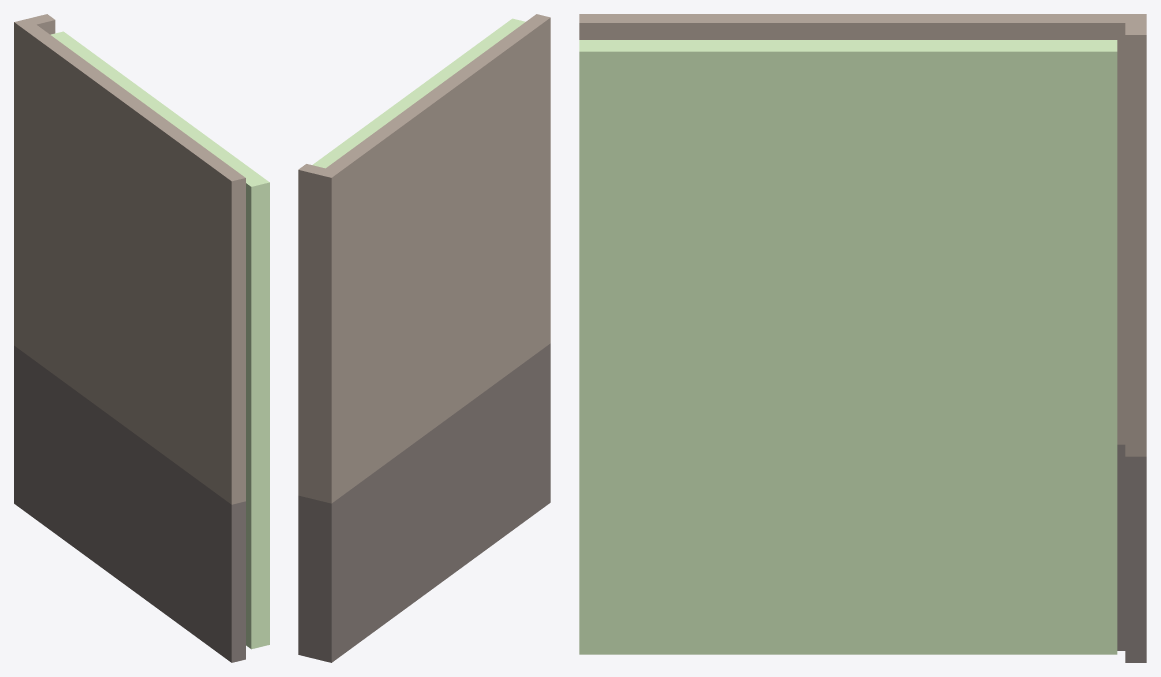
The picture shows the model from 3 angles, left to right: view 1: azimuth 30°, elevation 25°; view 2: azimuth 150°, elevation 25°; view 3: azimuth 270°, elevation 25°; orthographic projection. The views are drawn at different scales.
Parts seen in each view (by area): view 1: [8734859]21_Metselwerk Sonsbeek 100 mm, Aberson 48N13, [8734874]21_Metselwerk Hadsund 100mm, Aberson 48N45, [8734844]21_isolatie 131mm, [8734860]21_Metselwerk Sonsbeek 100 mm, Aberson 48N13, [8734875]21_Metselwerk Hadsund 100mm, Aberson 48N45; view 2: [8734859]21_Metselwerk Sonsbeek 100 mm, Aberson 48N13, [8734874]21_Metselwerk Hadsund 100mm, Aberson 48N45, [8734860]21_Metselwerk Sonsbeek 100 mm, Aberson 48N13, [8734875]21_Metselwerk Hadsund 100mm, Aberson 48N45, [8734844]21_isolatie 131mm; view 3: [8734844]21_isolatie 131mm, [8734859]21_Metselwerk Sonsbeek 100 mm, Aberson 48N13, [8734860]21_Metselwerk Sonsbeek 100 mm, Aberson 48N13, [8734875]21_Metselwerk Hadsund 100mm, Aberson 48N45, [8734874]21_Metselwerk Hadsund 100mm, Aberson 48N45.
Boxes of the visible parts, x1,y1,x2,y2 form: [8734859]21_Metselwerk Sonsbeek 100 mm, Aberson 48N13: [22, 24, 245, 504]; [8734874]21_Metselwerk Hadsund 100mm, Aberson 48N45: [22, 352, 245, 662]; [8734844]21_isolatie 131mm: [50, 31, 269, 649]; [8734860]21_Metselwerk Sonsbeek 100 mm, Aberson 48N13: [14, 14, 55, 350]; [8734875]21_Metselwerk Hadsund 100mm, Aberson 48N45: [14, 345, 22, 509]; [8734859]21_Metselwerk Sonsbeek 100 mm, Aberson 48N13: [326, 14, 550, 497]; [8734874]21_Metselwerk Hadsund 100mm, Aberson 48N45: [339, 343, 550, 656]; [8734860]21_Metselwerk Sonsbeek 100 mm, Aberson 48N13: [298, 164, 339, 503]; [8734875]21_Metselwerk Hadsund 100mm, Aberson 48N45: [298, 495, 339, 662]; [8734844]21_isolatie 131mm: [312, 18, 525, 168]; [8734844]21_isolatie 131mm: [579, 40, 1117, 654]; [8734859]21_Metselwerk Sonsbeek 100 mm, Aberson 48N13: [579, 14, 1125, 444]; [8734860]21_Metselwerk Sonsbeek 100 mm, Aberson 48N13: [1125, 14, 1146, 456]; [8734875]21_Metselwerk Hadsund 100mm, Aberson 48N45: [1125, 456, 1146, 662]; [8734874]21_Metselwerk Hadsund 100mm, Aberson 48N45: [1117, 444, 1125, 650].
Bounding box in the file's own units: 0.27 × 3.26 × 2.67.
